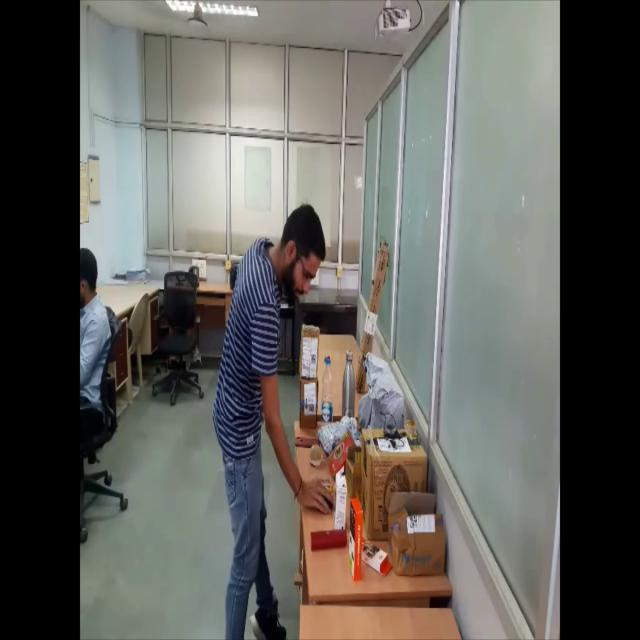normal: (210, 198, 338, 640)
